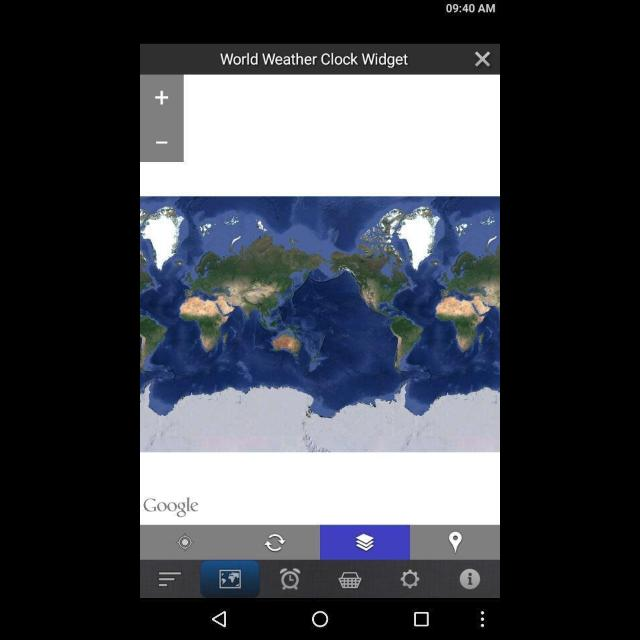icon: (280, 568, 300, 592), (158, 572, 182, 590), (336, 571, 362, 587), (221, 570, 241, 590), (460, 570, 480, 588), (402, 570, 421, 588), (474, 52, 492, 68), (312, 612, 328, 628), (212, 612, 226, 628), (414, 613, 428, 627), (480, 610, 484, 630)
map: (140, 74, 498, 560)
panel: (140, 599, 500, 639), (140, 562, 500, 598)
text: (221, 54, 409, 68)
uppertaskbar: (140, 1, 500, 18)
